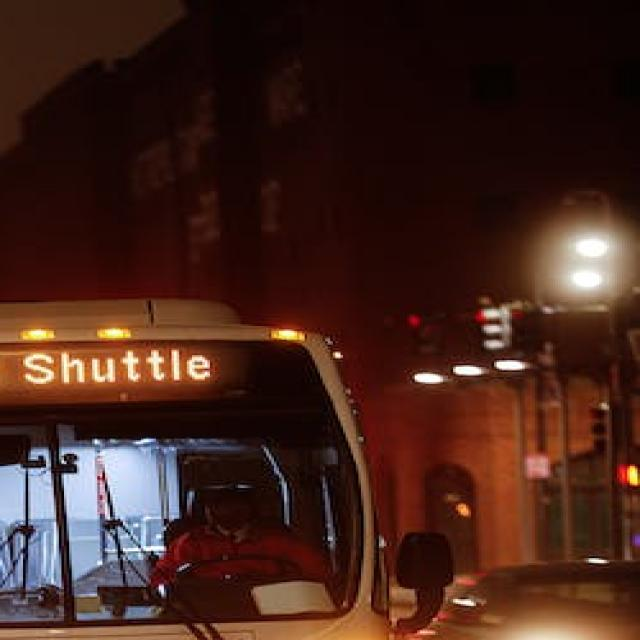bus: (0, 300, 443, 640)
car: (417, 549, 639, 640)
